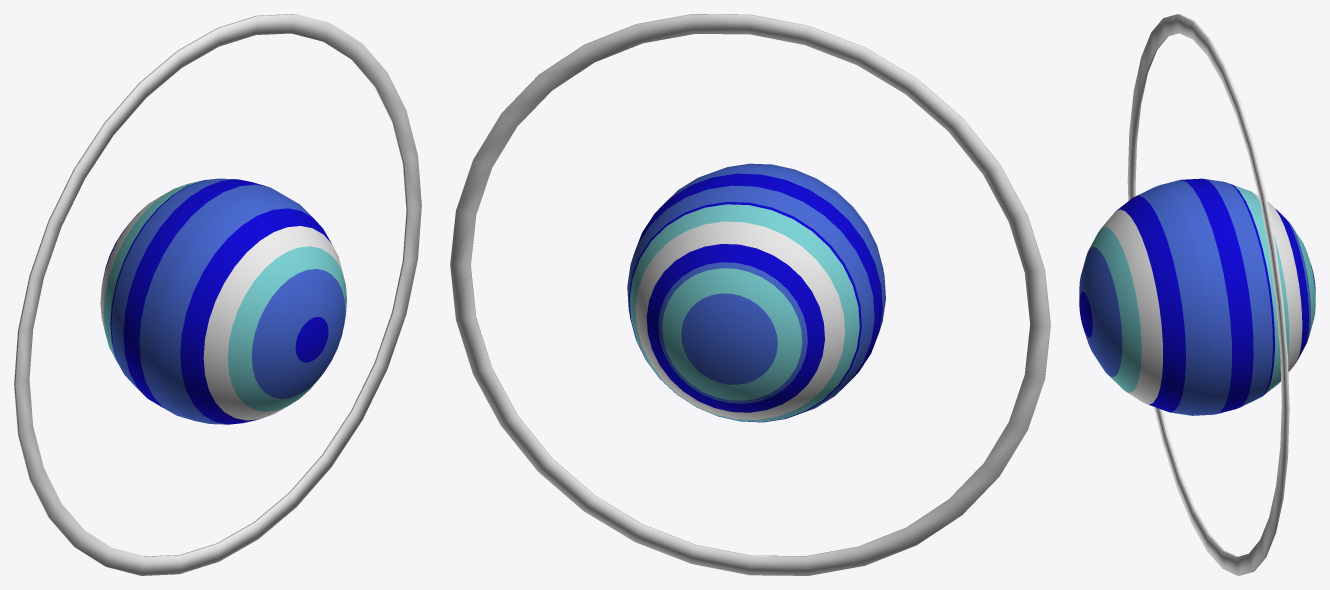
The model's file is Planet8.fbx.
The picture shows the model from 3 angles, left to right: view 1: azimuth 30°, elevation 25°; view 2: azimuth 150°, elevation 25°; view 3: azimuth 270°, elevation 25°; orthographic projection. The views are drawn at different scales.
Visible parts, largest first — view 1: Sphere; view 2: Sphere; view 3: Sphere.
Part boxes in pixels (bbox=[...]): Sphere: bbox=[14, 14, 421, 575]; Sphere: bbox=[450, 14, 1050, 575]; Sphere: bbox=[1079, 14, 1315, 575].
Size of the model in its own units: 1333 by 1387 by 579.
